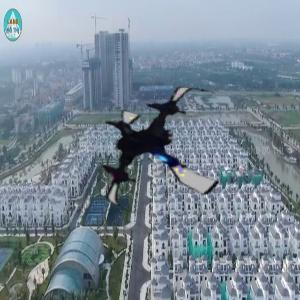drone: (90, 76, 241, 227)
